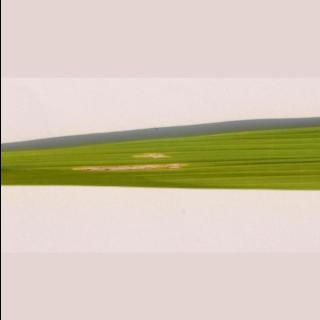Hawar-Daun: (2, 112, 314, 195)
